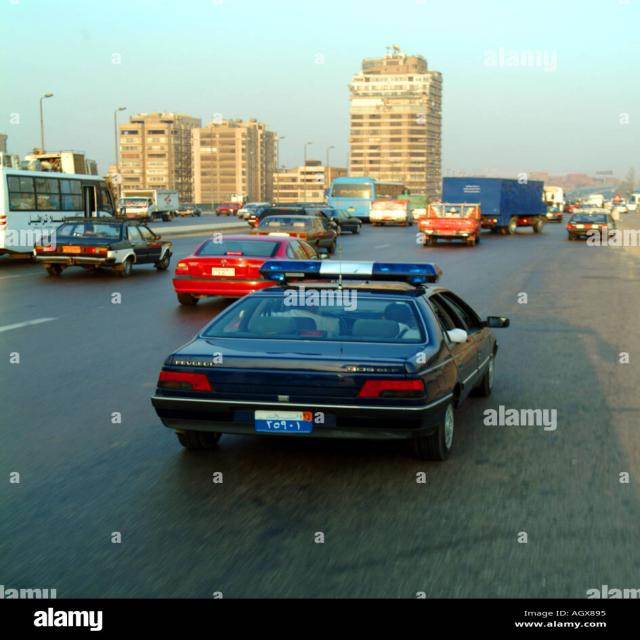Bus: (0, 166, 117, 259), (325, 176, 408, 221)
Car: (172, 232, 329, 306), (33, 216, 172, 277), (249, 215, 339, 254), (565, 212, 617, 240), (175, 203, 201, 217), (215, 202, 240, 216), (545, 206, 563, 222)
Police-car: (150, 259, 509, 462)
Truck: (441, 176, 548, 235), (120, 189, 179, 221)
